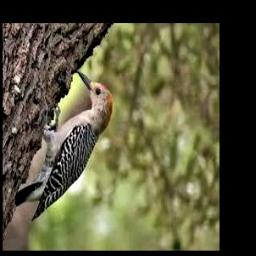Woodpecker: (14, 69, 113, 221)
